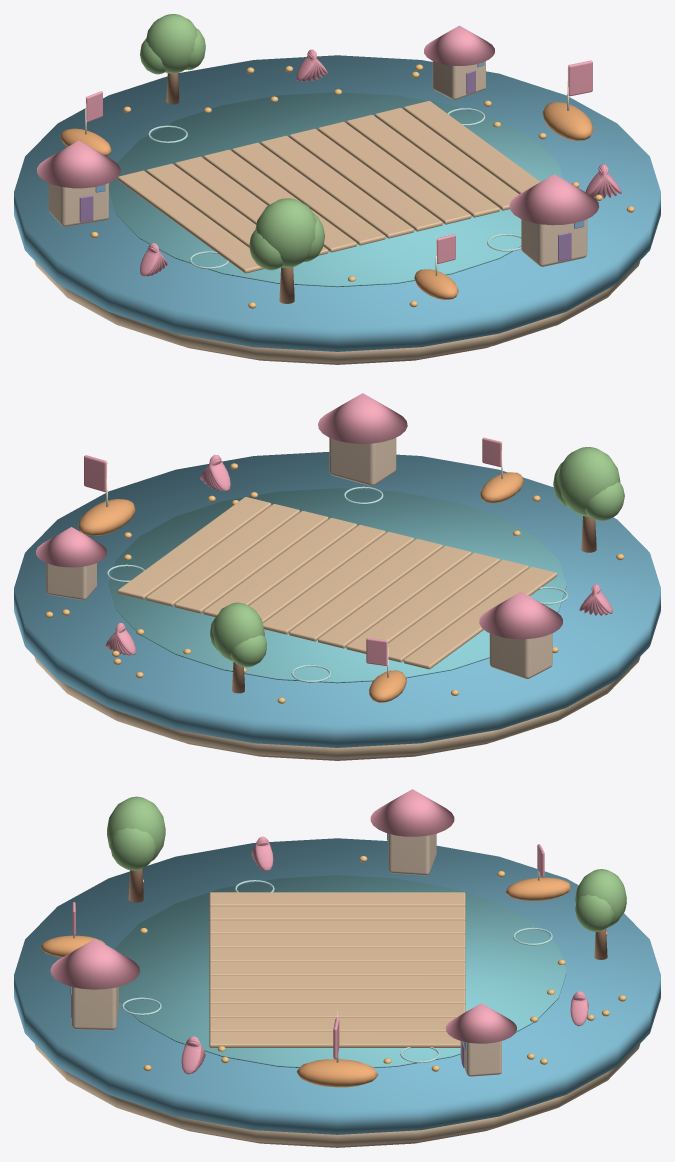
The model's file is world.glb.
3 views of the same model, one above another, from view 1: azimuth 30°, elevation 25°; view 2: azimuth 150°, elevation 25°; view 3: azimuth 270°, elevation 25° (orthographic).
Visible parts, largest first — view 1: Cone, Cone.003, Cone.001, house.003, house.002, tree.002, Cube.005, Cube.008, Cube.006, Cube.007, Cube.004, Cube (+14 smaller); view 2: Cone, Cone.003, Cone.001, house.003, house.002, tree.002, Cube.003, Cube.008, Cube.009, Cube.010, Cube.004, Cube.005 (+14 smaller); view 3: Cone, Cone.003, Cone.001, house.003, house.002, Cube.010, tree.002, Cube, Cube.001, Cube.002, Cube.003, Cube.004 (+13 smaller).
Boxes of the visible parts, x1,y1,x2,y2 form: Cone: (14, 55, 660, 351); Cone.003: (109, 92, 563, 287); Cone.001: (34, 260, 640, 363); house.003: (509, 174, 598, 266); house.002: (37, 140, 120, 226); tree.002: (249, 198, 324, 303); Cube.005: (260, 135, 414, 238); Cube.008: (346, 115, 499, 217); Cube.006: (289, 128, 442, 231); Cube.007: (318, 121, 471, 224); Cube.004: (232, 142, 385, 245); Cube: (117, 170, 263, 273); Cone: (14, 452, 660, 747); Cone.003: (108, 488, 566, 683); Cone.001: (34, 656, 640, 759); house.003: (318, 393, 407, 485); house.002: (479, 591, 562, 678); tree.002: (553, 447, 624, 552); Cube.003: (318, 545, 471, 648); Cube.008: (175, 511, 328, 613); Cube.009: (146, 504, 299, 606); Cube.010: (117, 497, 271, 599); Cube.004: (289, 538, 442, 641); Cube.005: (263, 531, 414, 634); Cone: (14, 838, 660, 1134); Cone.003: (115, 875, 566, 1067); Cone.001: (34, 1043, 640, 1146); house.003: (50, 938, 140, 1030); house.002: (370, 789, 454, 875); Cube.010: (209, 1031, 460, 1047); tree.002: (107, 796, 165, 902); Cube: (209, 892, 465, 906); Cube.001: (209, 906, 465, 920); Cube.002: (209, 920, 465, 934); Cube.003: (209, 934, 465, 948); Cube.004: (209, 948, 465, 962).
Bounding box in the file's own units: 9.6 × 2.44 × 9.6.
